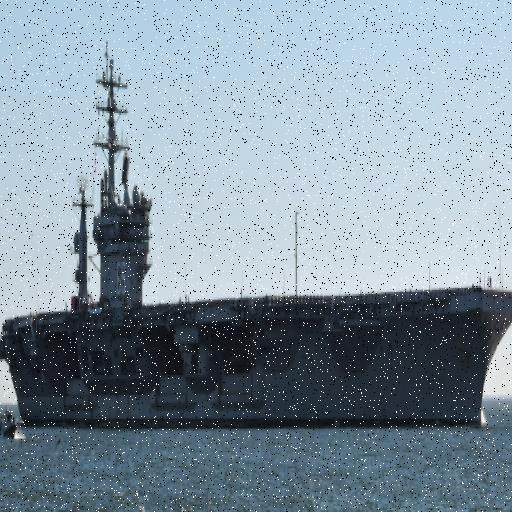Portanaves: (1, 31, 512, 428)
